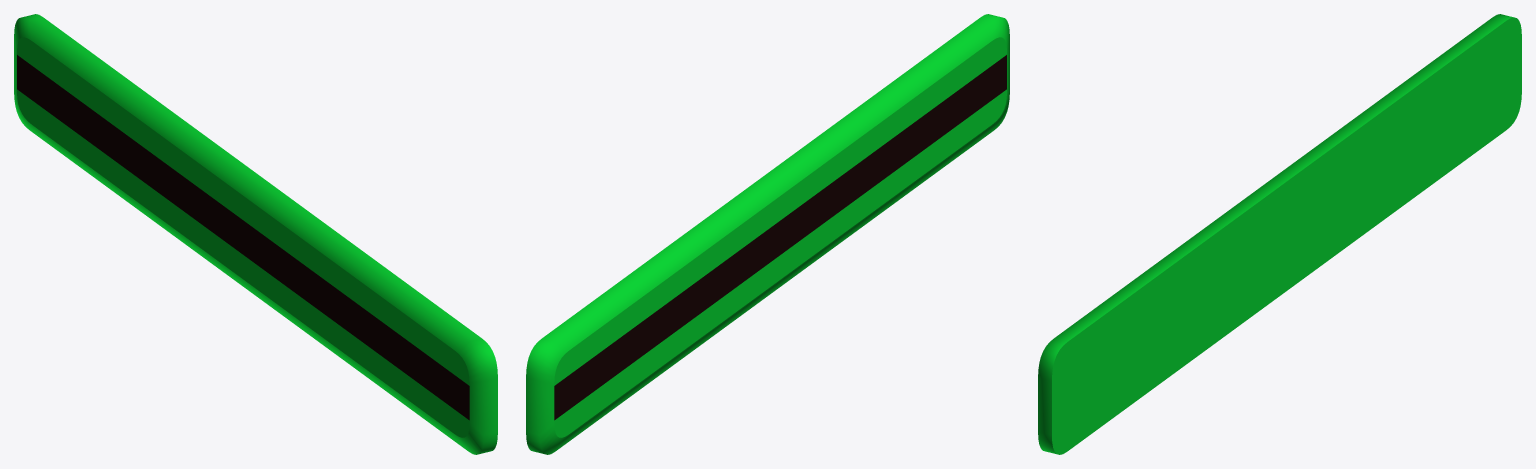
File: Knife holder.FBX
3 views of the same model, side by side, from view 1: azimuth 30°, elevation 25°; view 2: azimuth 150°, elevation 25°; view 3: azimuth 330°, elevation 25° (orthographic).
Visible parts, largest first — view 1: Knife holder; view 2: Knife holder; view 3: Knife holder.
Boxes of the visible parts, <box> form: Knife holder: <box>14,14,497,454</box>; Knife holder: <box>526,14,1009,454</box>; Knife holder: <box>1038,14,1521,454</box>.
Bounding box in the file's own units: 0.3328 × 1.77 × 13.78.
